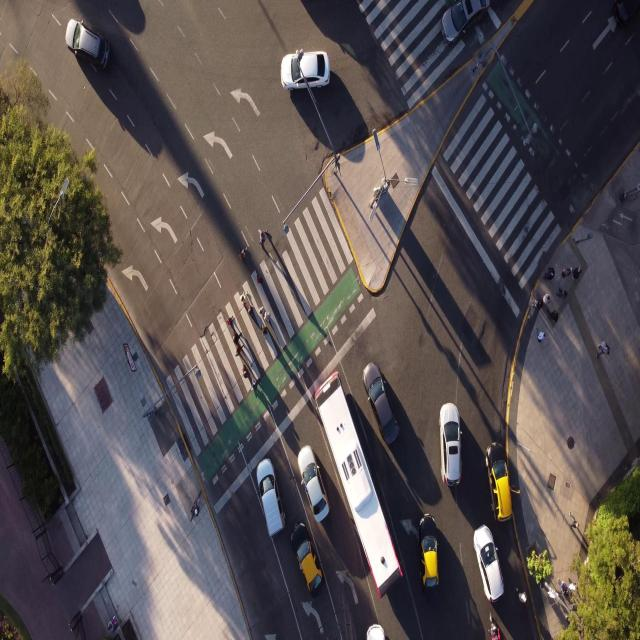Car: (50, 0, 115, 81), (362, 354, 412, 436), (441, 390, 475, 498), (254, 457, 289, 561), (471, 520, 512, 606), (296, 445, 334, 531), (485, 426, 517, 524), (274, 42, 334, 94), (432, 0, 490, 48), (412, 508, 442, 586), (299, 537, 326, 605)
